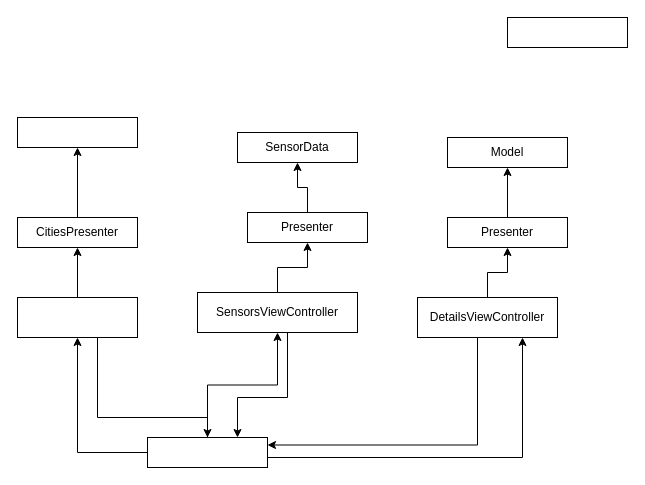
This 645x485 diagram has some shape labels left out. Each missing label, with the box of its shape:
CitiesViewController: (16, 296, 138, 338)
City: (16, 116, 138, 148)
Coordinator: (146, 436, 268, 468)
Service: (506, 16, 628, 48)
